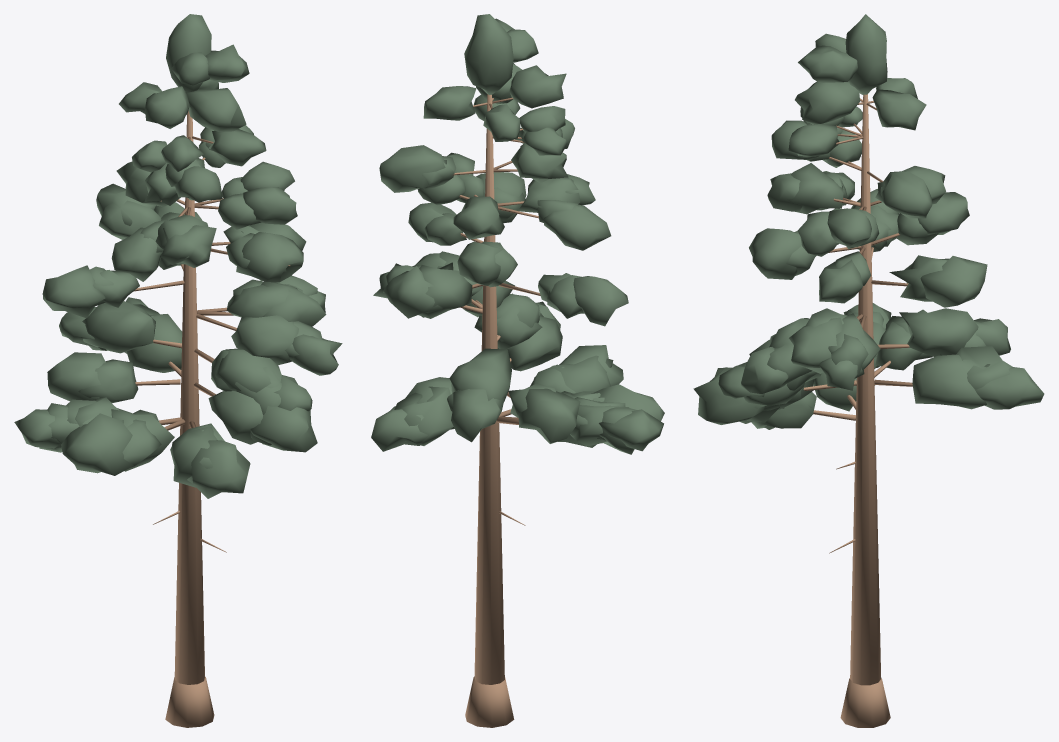
Rendered from Pino_A.fbx.
3 renders of one model, left to right at view 1: azimuth 30°, elevation 25°; view 2: azimuth 150°, elevation 25°; view 3: azimuth 270°, elevation 25°, orthographic.
Visible parts, largest first — view 1: Pino_A_LOD0; view 2: Pino_A_LOD0; view 3: Pino_A_LOD0.
Boxes of the visible parts, x1=… form: Pino_A_LOD0: x1=14, y1=14, x2=342, y2=727; Pino_A_LOD0: x1=371, y1=14, x2=664, y2=727; Pino_A_LOD0: x1=693, y1=14, x2=1044, y2=727.
Size of what is drawn, in the model's own units: 7.81 by 18.07 by 8.17.
